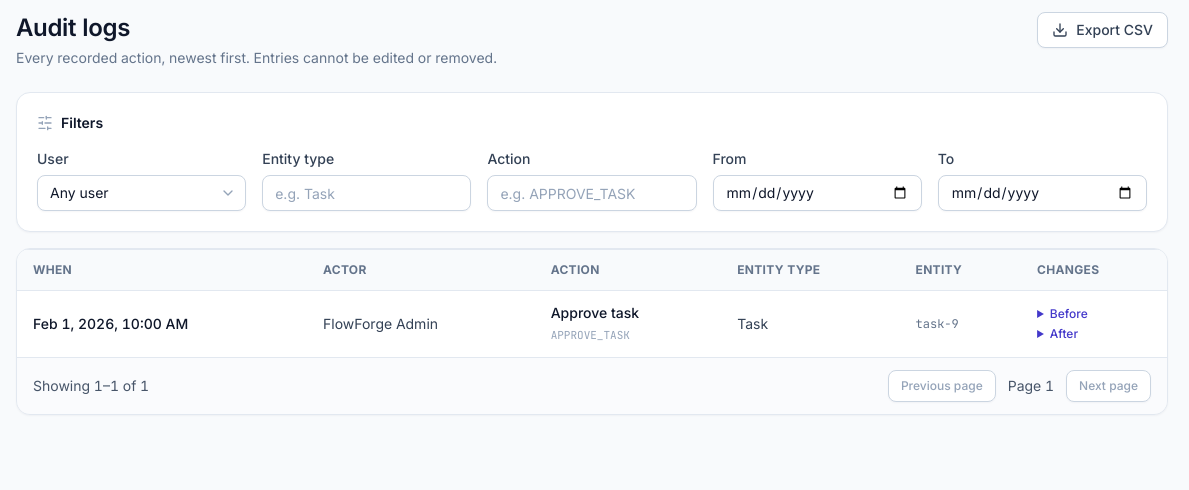
Scenario: AuditLogTable › surfaces a failed export without losing the table
Expected: the table is shown, [17, 249, 1167, 357]
Click the button "Export CSV". click: click(1103, 30)
box: [1037, 12, 1168, 48]
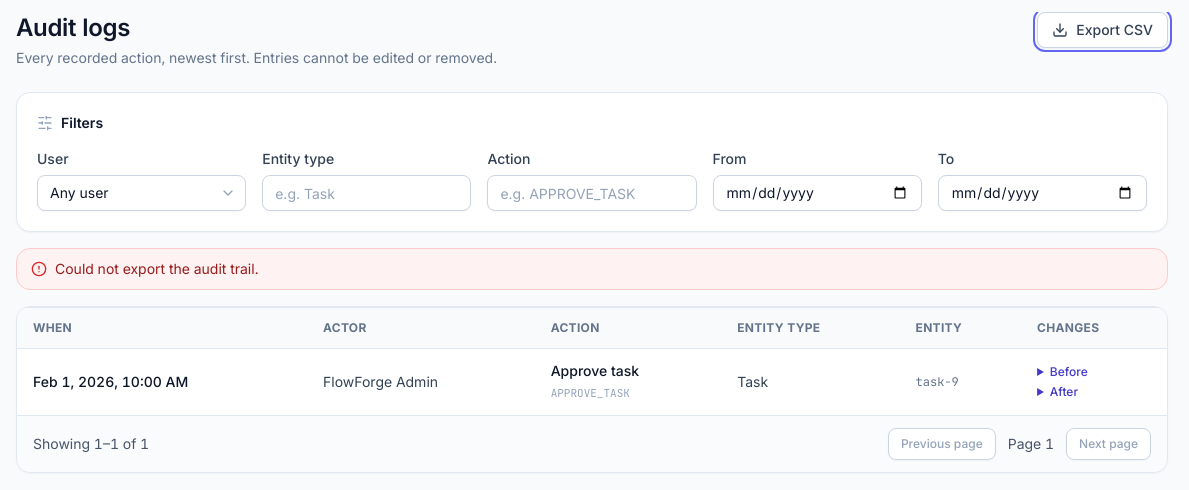
Expected: the table is shown, [17, 307, 1167, 415]
Expected: the message "Could not export the audit trail." is shown, [16, 248, 1168, 290]
